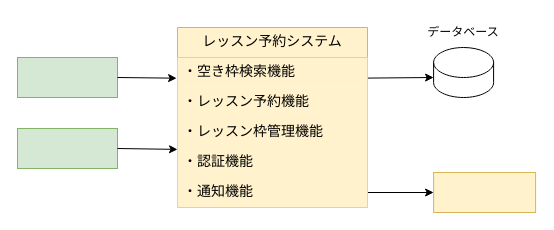
The diagram is 554 pixels wide and 230 high, and some of its shapes have lost their labels. The shapes that lost their labels are listed below. From the top down, each one's centre as x and y in pixels, then its label:
point 67,77: 生徒
point 67,148: 講師・スタッフ
point 484,192: メール送信機能
